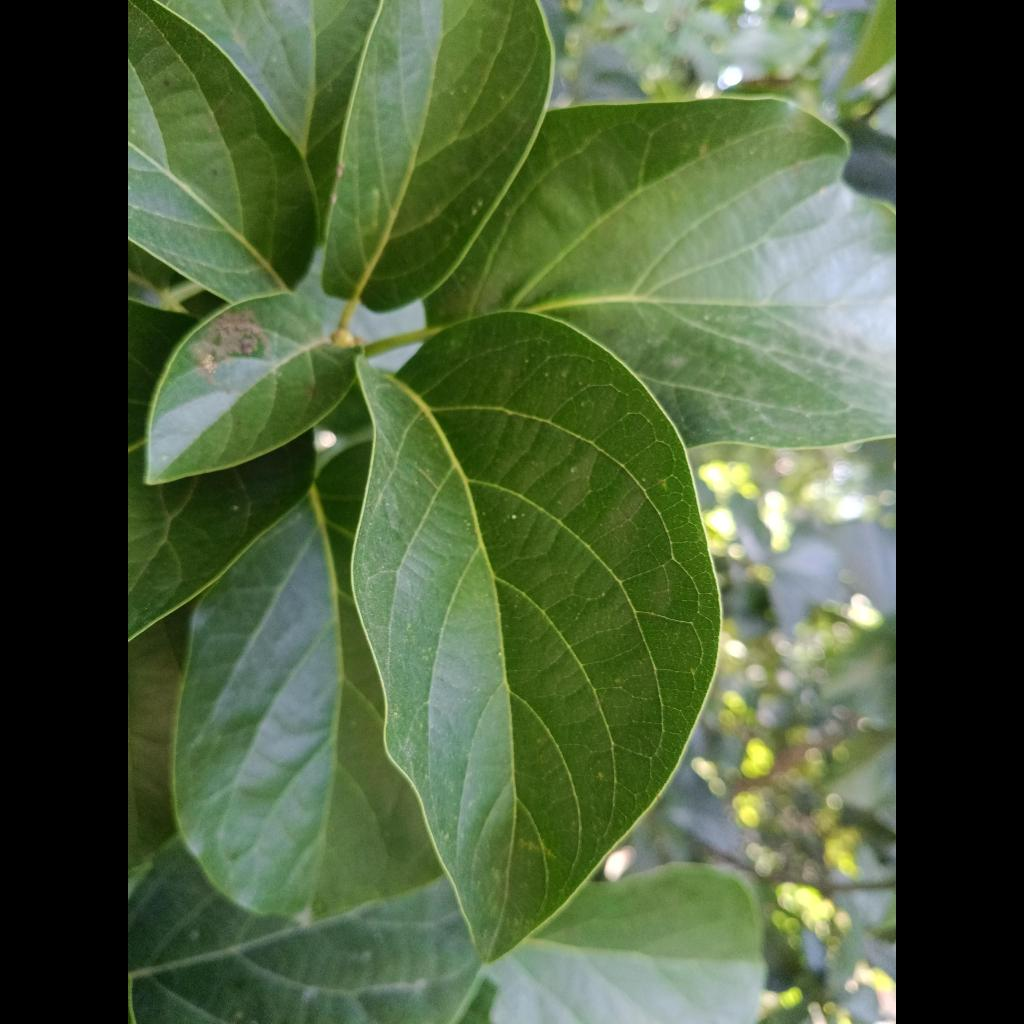hoja_sana: (353, 313, 720, 959)
